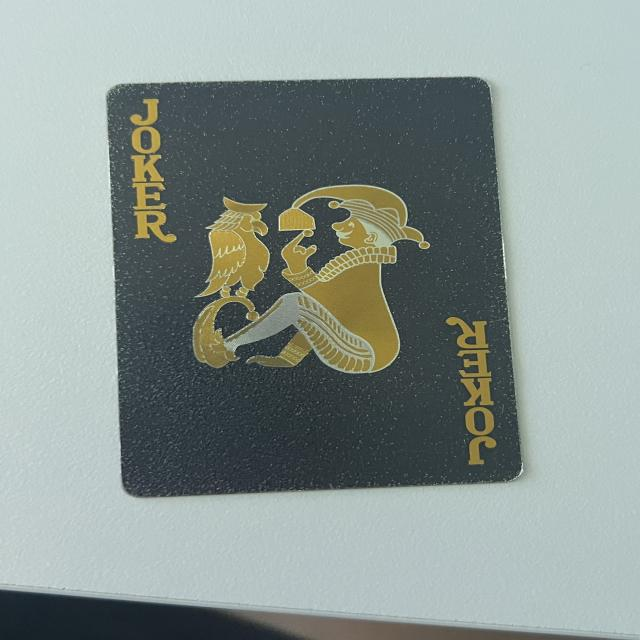RED JOKER: (437, 314, 509, 466), (123, 94, 184, 246)
